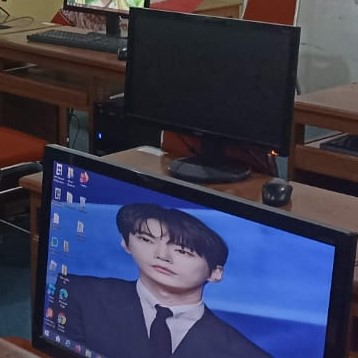monitor: (29, 143, 357, 354), (124, 7, 301, 178), (61, 0, 150, 38)
